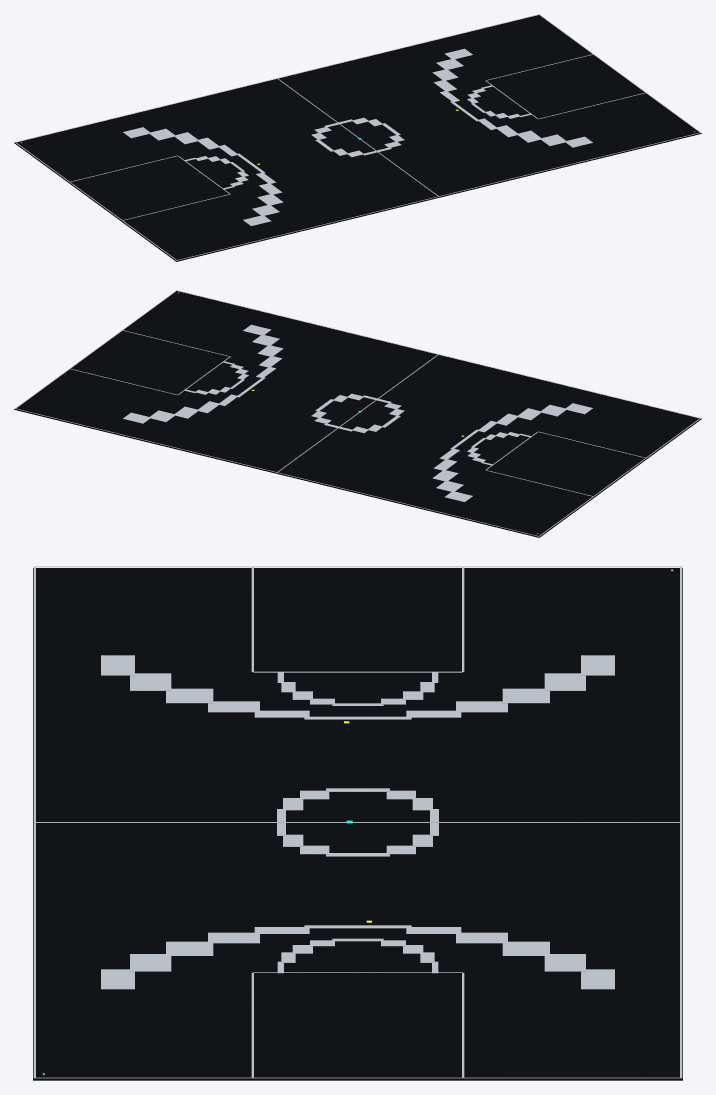
The model's file is tt_bb_court.glb.
The picture shows the model from 3 angles, top to bottom: view 1: azimuth 30°, elevation 25°; view 2: azimuth 150°, elevation 25°; view 3: azimuth 270°, elevation 25°; orthographic projection. The views are drawn at different scales.
Parts seen in each view (by area): view 1: Court_Pad, Lane_Paint; view 2: Court_Pad, Lane_Paint; view 3: Court_Pad, Lane_Paint.
Part boxes in pixels (x1,y1,x2,y2): Court_Pad: (14,15,701,261); Lane_Paint: (15,14,700,260); Court_Pad: (14,291,701,537); Lane_Paint: (15,290,700,536); Court_Pad: (33,568,682,1080); Lane_Paint: (33,566,682,1078).
Size of what is drawn, in the model's own units: 28 by 0.0753 by 15.
Materials: 5 (2 with a texture image).
